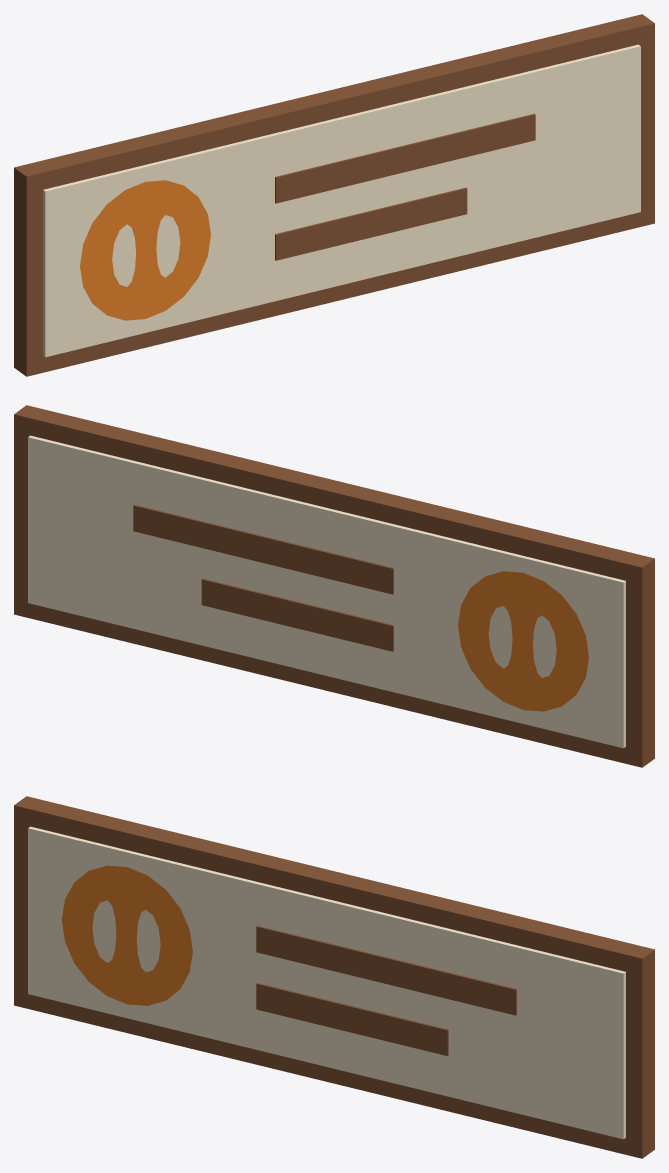
File: signboard.glb
3 views of the same model, one above another, from view 1: azimuth 30°, elevation 25°; view 2: azimuth 150°, elevation 25°; view 3: azimuth 330°, elevation 25° (orthographic).
Visible parts, largest first — view 1: signboard; view 2: signboard; view 3: signboard.
Boxes of the visible parts, <box> form: signboard: <box>14,14,654,376</box>; signboard: <box>14,405,654,767</box>; signboard: <box>14,796,654,1158</box>.
Size of the model in its own units: 4.6 by 1.4 by 0.25.
